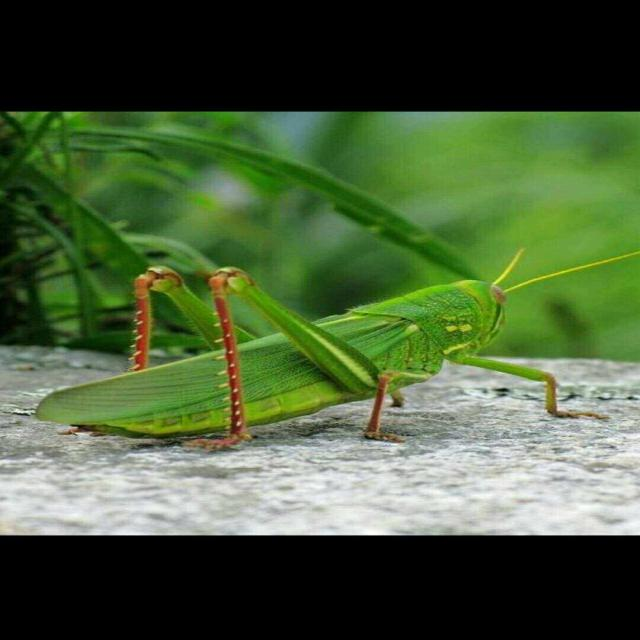ZhaMeng: (43, 252, 549, 458)
